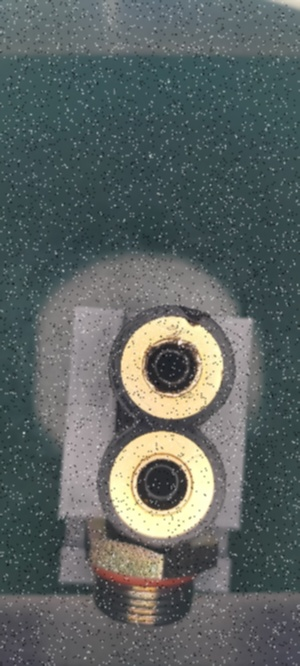bump: (175, 308, 209, 328)
